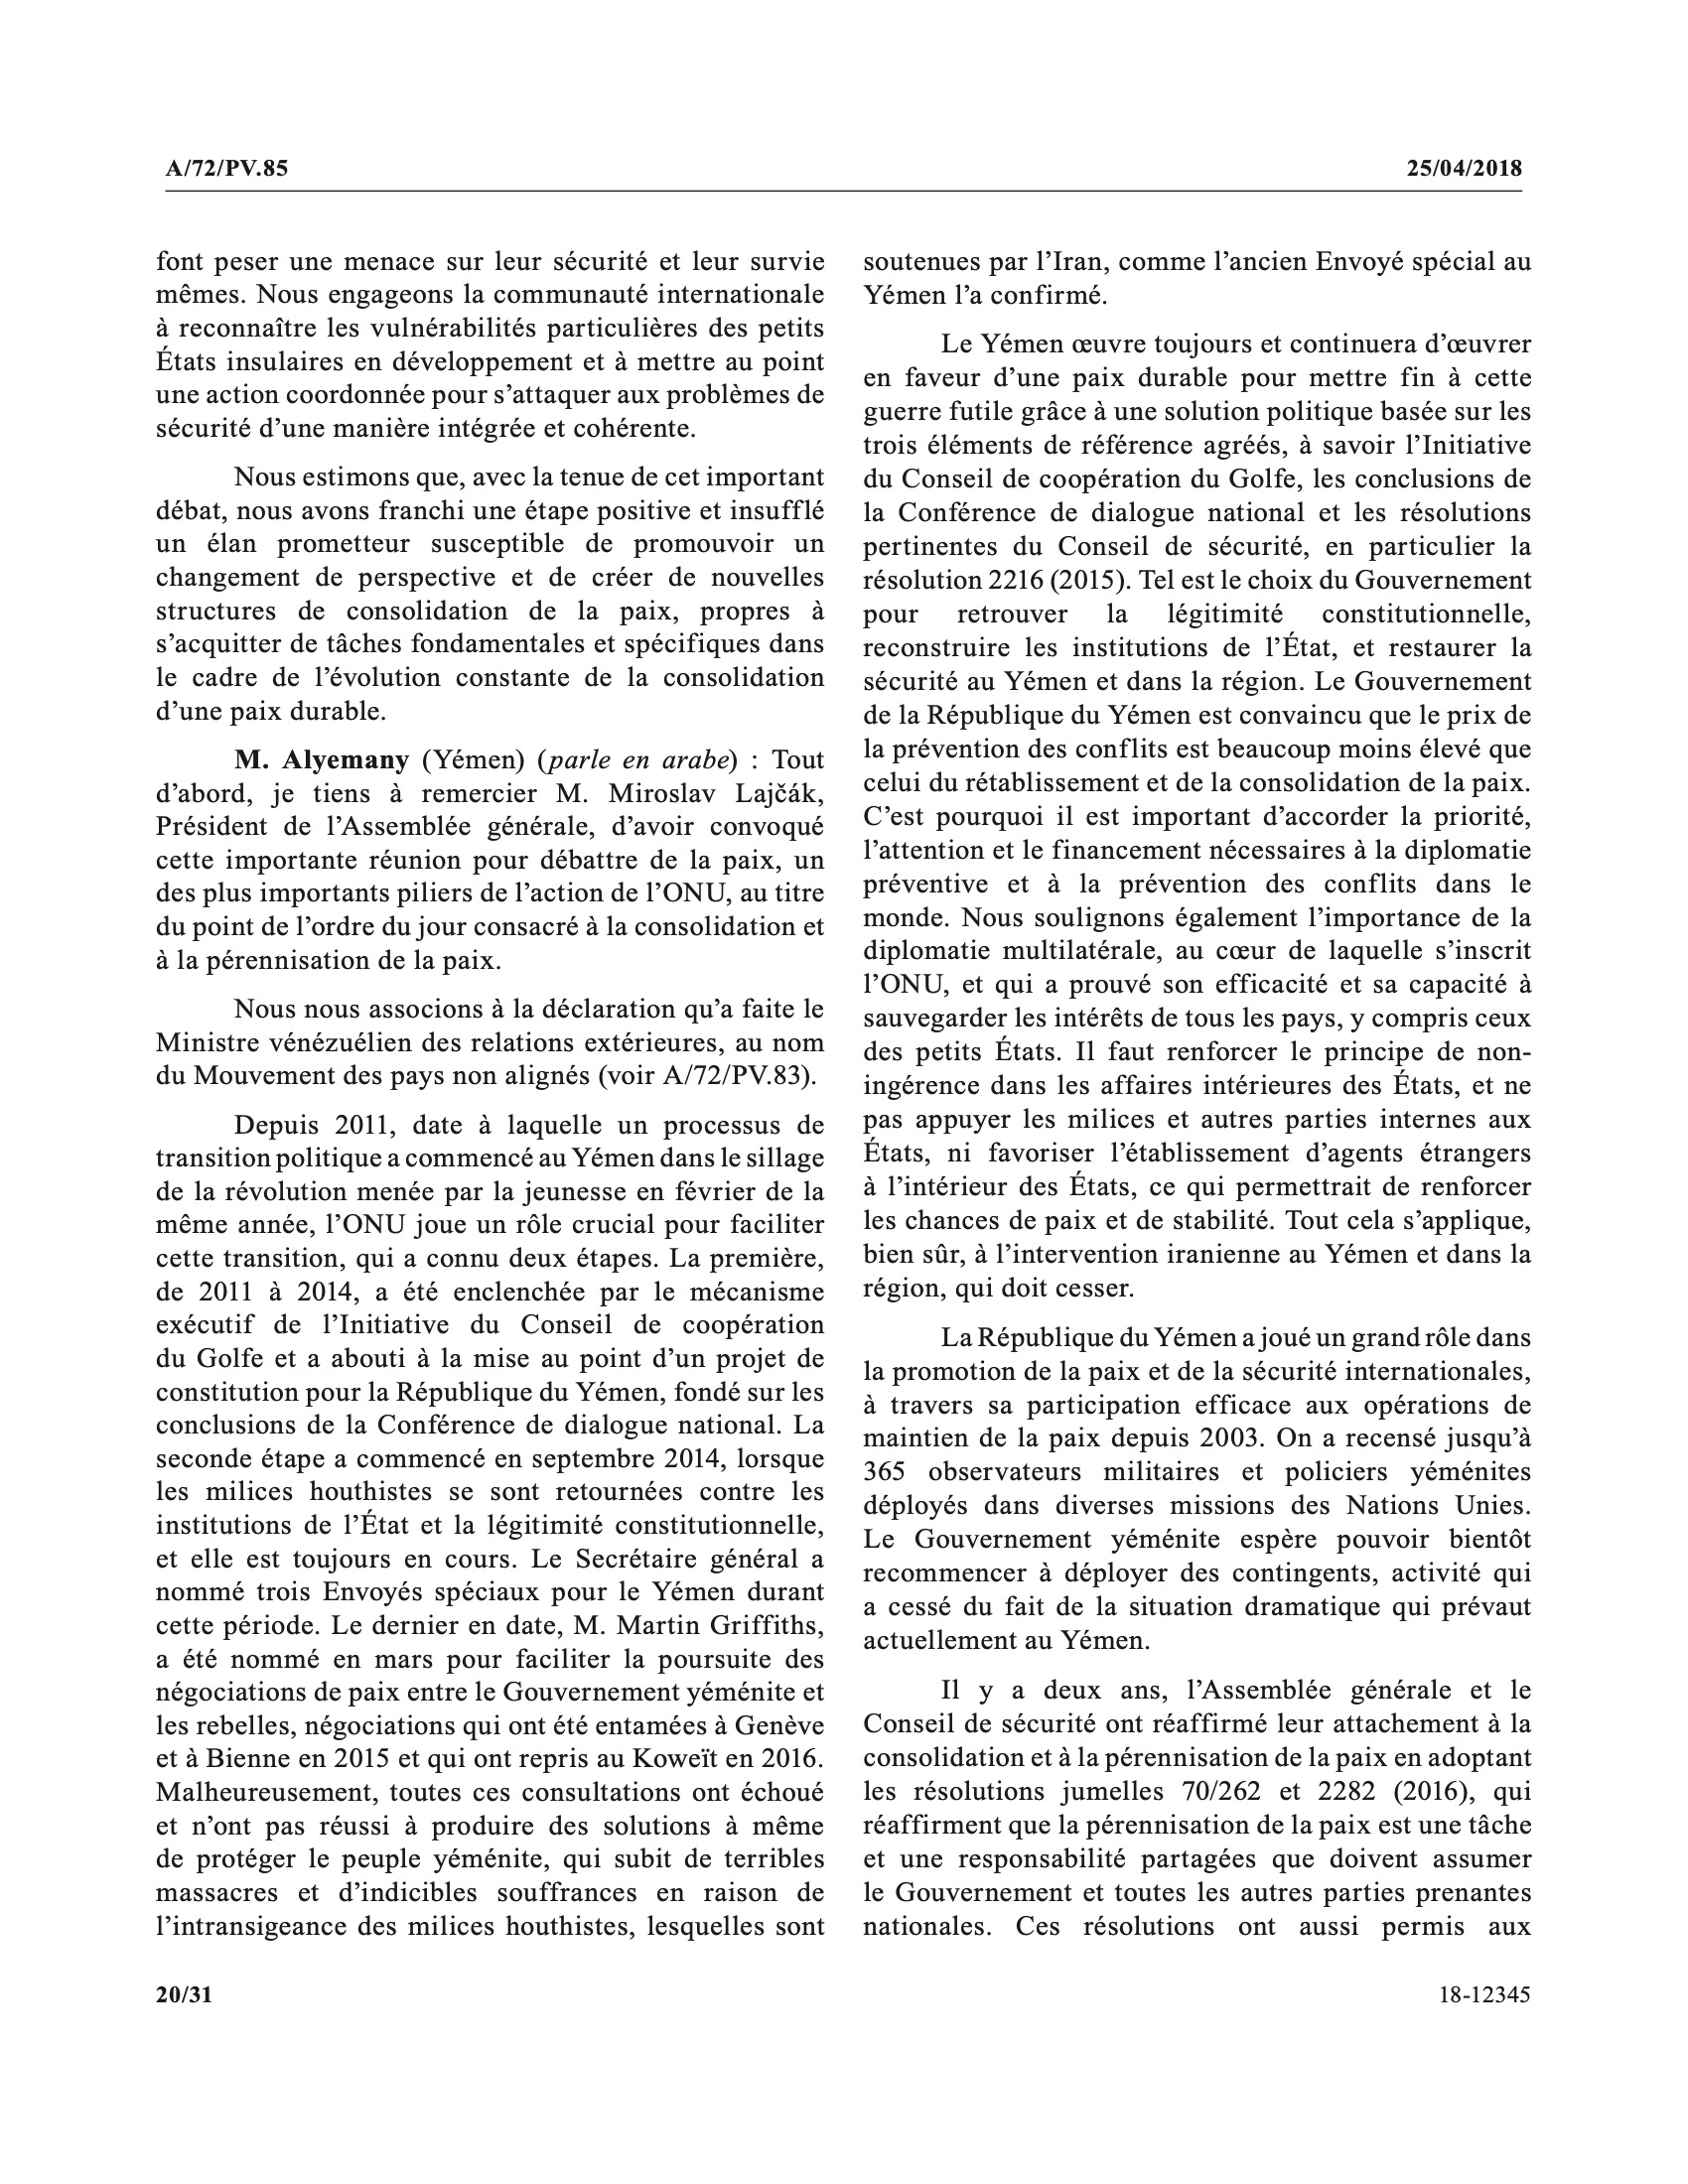MainZone-Continued: (150, 241, 833, 447), (856, 238, 1537, 315)
MainZone-Date: (1399, 149, 1528, 186)
MainZone-P: (852, 327, 1544, 1311), (146, 1102, 833, 1944), (855, 1318, 1541, 1659), (858, 1672, 1543, 1950), (147, 458, 832, 729), (148, 740, 832, 978), (149, 990, 834, 1096)
NumberingZone: (1431, 1975, 1540, 2014), (149, 1975, 220, 2015)
RunningTitleZone: (158, 149, 298, 189)
